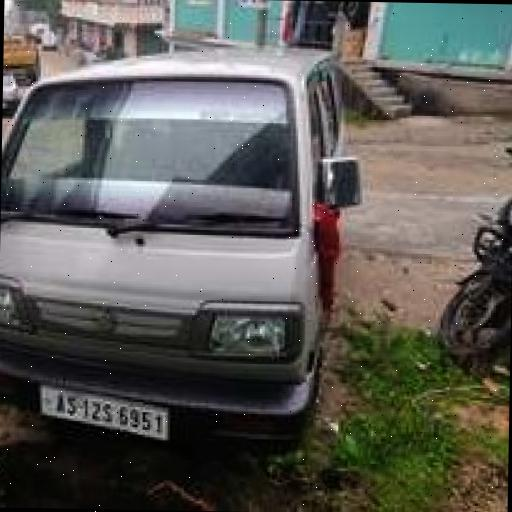license_plate`: (37, 380, 166, 438)
